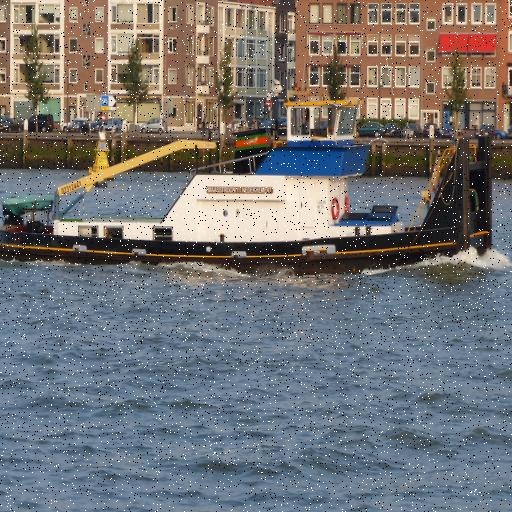tugboat: (1, 96, 498, 284)
